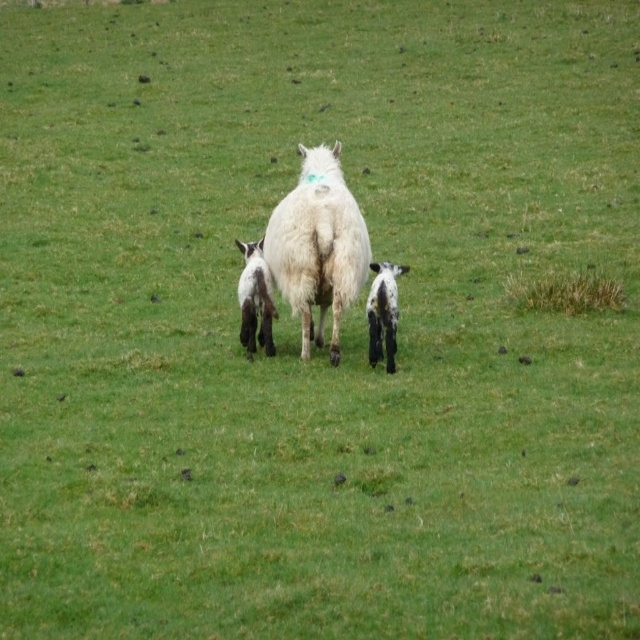Sheep: (264, 137, 373, 364), (363, 258, 412, 375), (235, 239, 275, 357)
